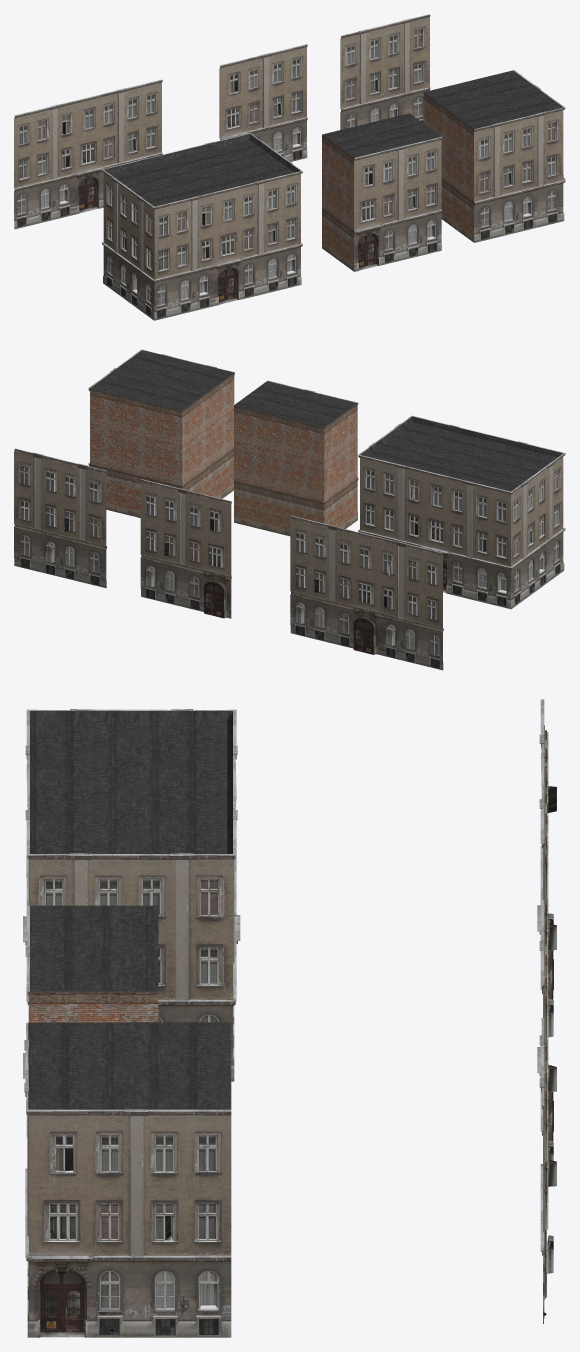
Rendered from european_building_facades.glb.
The picture shows the model from 3 angles, top to bottom: view 1: azimuth 30°, elevation 25°; view 2: azimuth 150°, elevation 25°; view 3: azimuth 270°, elevation 25°; orthographic projection. The views are drawn at different scales.
Visible parts, largest first — view 1: BuildingsHouseOld0202_double, BuildingsHouseOld0202_corner, BuildingsHouseOld0202_single, BuildingsHouseOld0202_doubleplane, BuildingsHouseOld0202_singleplanedoor_BuildingsHouseOld0202_ (×2), BuildingsHouseOld0202_singleplane, BuildingsHouseOld0202_doubleplane_BuildingsHouseOld0202_wind, BuildingsHouseOld0202_singleplane_BuildingsHouseOld0202_wind; view 2: BuildingsHouseOld0202_double, BuildingsHouseOld0202_corner, BuildingsHouseOld0202_single, BuildingsHouseOld0202_doubleplane, BuildingsHouseOld0202_singleplanedoor_BuildingsHouseOld0202_ (×2), BuildingsHouseOld0202_singleplane, BuildingsHouseOld0202_doubleplane_BuildingsHouseOld0202_wind, BuildingsHouseOld0202_singleplane_BuildingsHouseOld0202_wind; view 3: BuildingsHouseOld0202_corner, BuildingsHouseOld0202_double, BuildingsHouseOld0202_single, BuildingsHouseOld0202_doubleplane, BuildingsHouseOld0202_singleplane, BuildingsHouseOld0202_singleplanedoor_BuildingsHouseOld0202_.
Boxes of the visible parts, x1,y1,x2,y2 form: BuildingsHouseOld0202_double: [101, 133, 302, 320]; BuildingsHouseOld0202_corner: [423, 70, 565, 242]; BuildingsHouseOld0202_single: [322, 113, 442, 271]; BuildingsHouseOld0202_doubleplane: [14, 79, 162, 229]; BuildingsHouseOld0202_singleplanedoor_BuildingsHouseOld0202_ (×2): [219, 44, 307, 161]; BuildingsHouseOld0202_singleplane: [340, 14, 430, 129]; BuildingsHouseOld0202_doubleplane_BuildingsHouseOld0202_wind: [17, 94, 154, 213]; BuildingsHouseOld0202_singleplane_BuildingsHouseOld0202_wind: [347, 29, 421, 128]; BuildingsHouseOld0202_double: [358, 415, 565, 609]; BuildingsHouseOld0202_corner: [88, 349, 234, 517]; BuildingsHouseOld0202_single: [234, 380, 358, 536]; BuildingsHouseOld0202_doubleplane: [290, 515, 443, 670]; BuildingsHouseOld0202_singleplanedoor_BuildingsHouseOld0202_ (×2): [140, 479, 231, 618]; BuildingsHouseOld0202_singleplane: [14, 448, 106, 588]; BuildingsHouseOld0202_doubleplane_BuildingsHouseOld0202_wind: [296, 532, 438, 655]; BuildingsHouseOld0202_singleplane_BuildingsHouseOld0202_wind: [20, 465, 98, 572]; BuildingsHouseOld0202_corner: [24, 1022, 231, 1337]; BuildingsHouseOld0202_double: [23, 709, 240, 1081]; BuildingsHouseOld0202_single: [23, 905, 158, 1137]; BuildingsHouseOld0202_doubleplane: [537, 699, 556, 1037]; BuildingsHouseOld0202_singleplane: [539, 1018, 556, 1323]; BuildingsHouseOld0202_singleplanedoor_BuildingsHouseOld0202_: [537, 900, 556, 1160].
Size of the model in its own units: 37.96 by 9.75 by 20.72.
5 materials, 5 textured.
